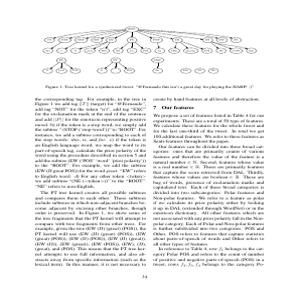diagram: (41, 25, 257, 80)
text: (32, 97, 149, 270), (151, 97, 266, 270)
